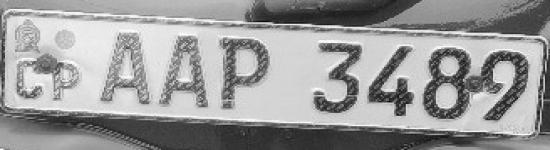3: (308, 36, 366, 118)
4: (366, 40, 421, 120)
8: (420, 43, 478, 125)
9: (478, 45, 534, 127)
A: (97, 25, 156, 109), (154, 31, 210, 112)
C: (12, 55, 46, 101)
P: (210, 33, 274, 115), (50, 58, 84, 104)
